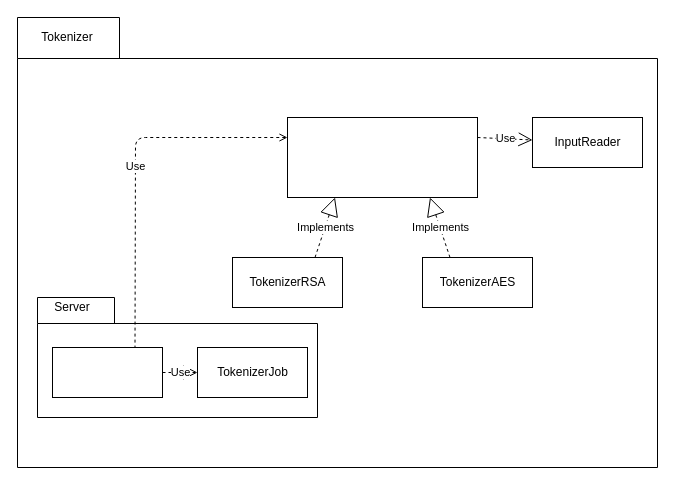
Some shapes in this 675 by 485 pixel diagram are drawn without their labels. The shapes that lost their labels are listed below. From the top down, each one's box as (x1, y1, x2, y2) in pixels, then its label:
(286, 116, 478, 198): <<Interface>> Tokenizer + tokenize(byte []): byte []
(52, 346, 162, 398): TokenizerServer
